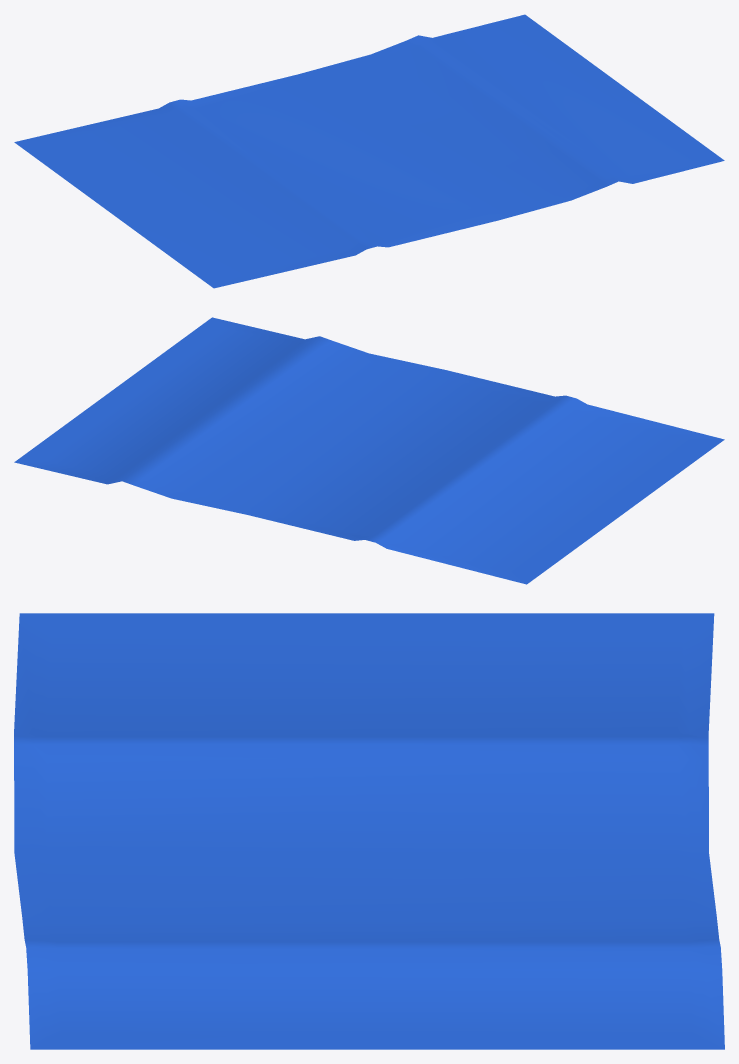
The model's file is rug_1.glb.
The picture shows the model from 3 angles, top to bottom: view 1: azimuth 30°, elevation 25°; view 2: azimuth 150°, elevation 25°; view 3: azimuth 270°, elevation 25°; orthographic projection. The views are drawn at different scales.
Parts seen in each view (by area): view 1: Carpet_1; view 2: Carpet_1; view 3: Carpet_1.
Boxes of the visible parts, x1=… form: Carpet_1: x1=14, y1=14, x2=724, y2=288; Carpet_1: x1=14, y1=317, x2=724, y2=584; Carpet_1: x1=14, y1=613, x2=724, y2=1049.
Size of the model in its own units: 9.04 by 0.1071 by 6.23.
